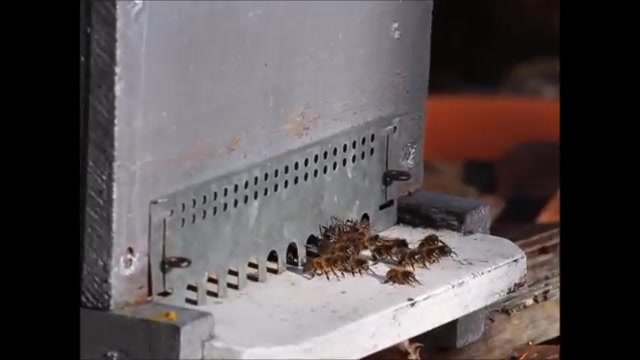bee: (306, 251, 347, 275), (367, 241, 407, 260), (420, 245, 457, 265), (345, 249, 373, 275), (388, 268, 421, 288)
